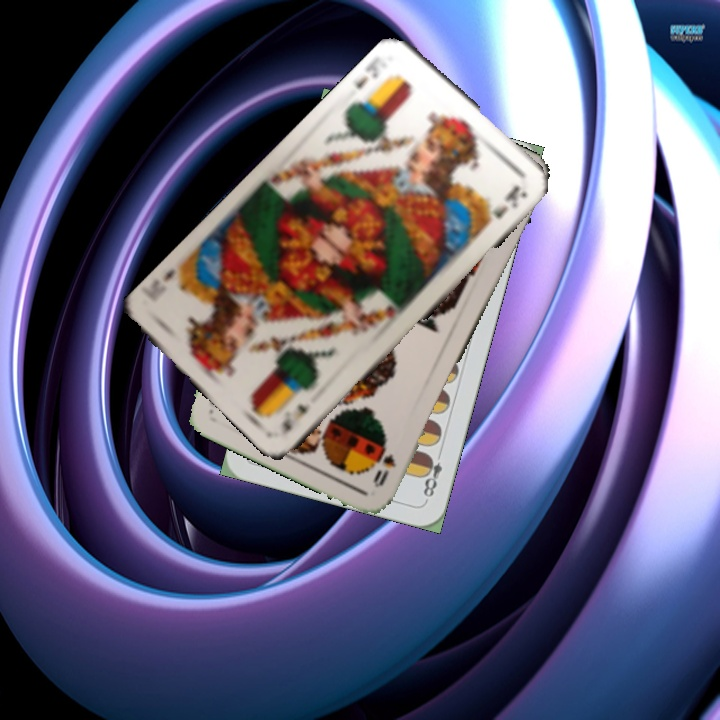E8: (418, 445, 445, 503)
EK: (277, 399, 312, 436), (351, 54, 383, 92)
SO: (369, 449, 399, 490)
